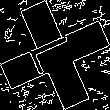L_NE: (25, 30, 85, 80)
